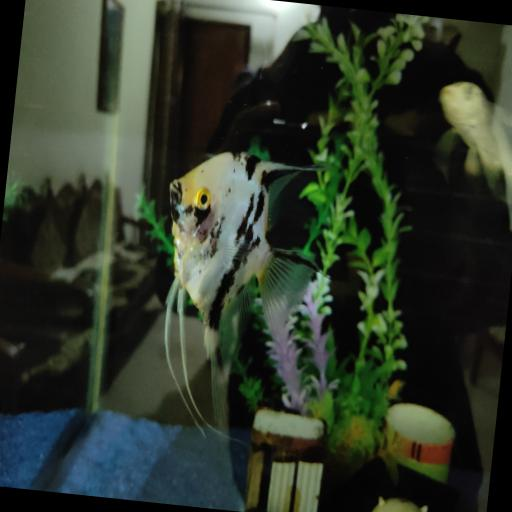Fish: (165, 153, 316, 427), (440, 82, 511, 229), (439, 82, 502, 188)
